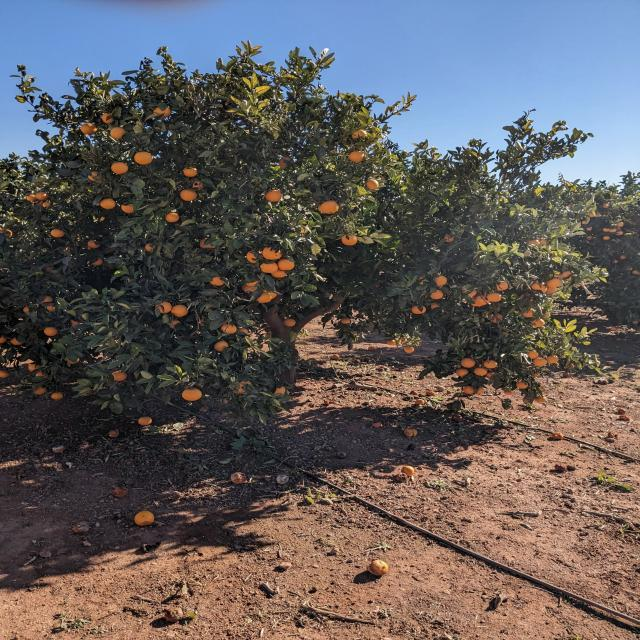Jeruk Sudah Matang: (135, 510, 157, 524), (182, 389, 204, 402), (134, 151, 154, 165), (260, 246, 280, 259), (321, 201, 338, 215), (258, 262, 276, 275), (265, 190, 283, 202), (111, 162, 128, 174), (154, 105, 172, 116), (182, 188, 196, 202), (243, 280, 259, 292), (111, 126, 125, 139), (486, 292, 502, 303), (281, 258, 295, 270), (176, 304, 190, 316), (111, 370, 125, 382), (184, 167, 198, 179), (222, 324, 236, 336), (158, 300, 172, 312), (260, 291, 274, 303), (350, 151, 364, 163), (80, 125, 94, 137), (434, 275, 448, 286), (367, 179, 379, 191), (352, 130, 366, 140), (199, 238, 213, 248), (461, 358, 475, 368), (531, 318, 545, 328), (166, 212, 178, 223), (216, 342, 228, 353), (45, 328, 57, 339), (102, 113, 114, 124), (140, 416, 153, 426), (51, 228, 64, 238), (344, 236, 357, 246), (279, 158, 292, 168), (548, 278, 562, 287), (212, 275, 223, 286), (432, 289, 443, 300), (246, 251, 256, 263), (122, 204, 134, 214), (44, 297, 54, 309), (88, 172, 100, 182), (102, 199, 115, 208), (475, 296, 488, 305), (533, 358, 547, 366), (462, 289, 476, 297), (275, 386, 286, 396), (86, 240, 98, 249), (411, 304, 423, 313), (483, 361, 498, 368), (474, 368, 487, 376), (516, 381, 529, 389), (28, 361, 38, 371), (497, 281, 508, 290), (90, 258, 102, 266), (36, 192, 48, 200), (456, 368, 468, 376), (532, 282, 544, 290), (560, 272, 572, 280), (526, 240, 539, 247), (146, 242, 156, 251), (0, 338, 10, 347), (528, 349, 538, 358), (34, 388, 45, 396), (52, 392, 62, 400), (10, 339, 20, 347), (22, 304, 32, 312), (284, 320, 294, 328), (464, 386, 474, 394), (548, 356, 558, 364), (546, 286, 556, 294), (523, 309, 533, 317), (446, 234, 454, 243), (237, 386, 246, 394), (108, 429, 117, 437), (535, 396, 546, 402), (27, 194, 35, 202), (405, 346, 414, 353), (503, 390, 512, 396), (33, 200, 43, 205), (340, 318, 350, 323), (388, 340, 396, 346), (476, 388, 484, 394), (540, 238, 546, 246), (43, 202, 51, 207), (486, 373, 494, 378)
